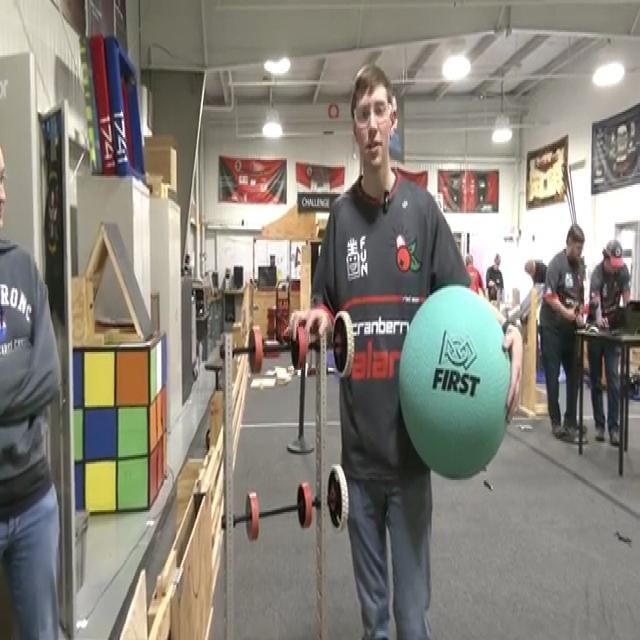Algae: (397, 281, 512, 480)
